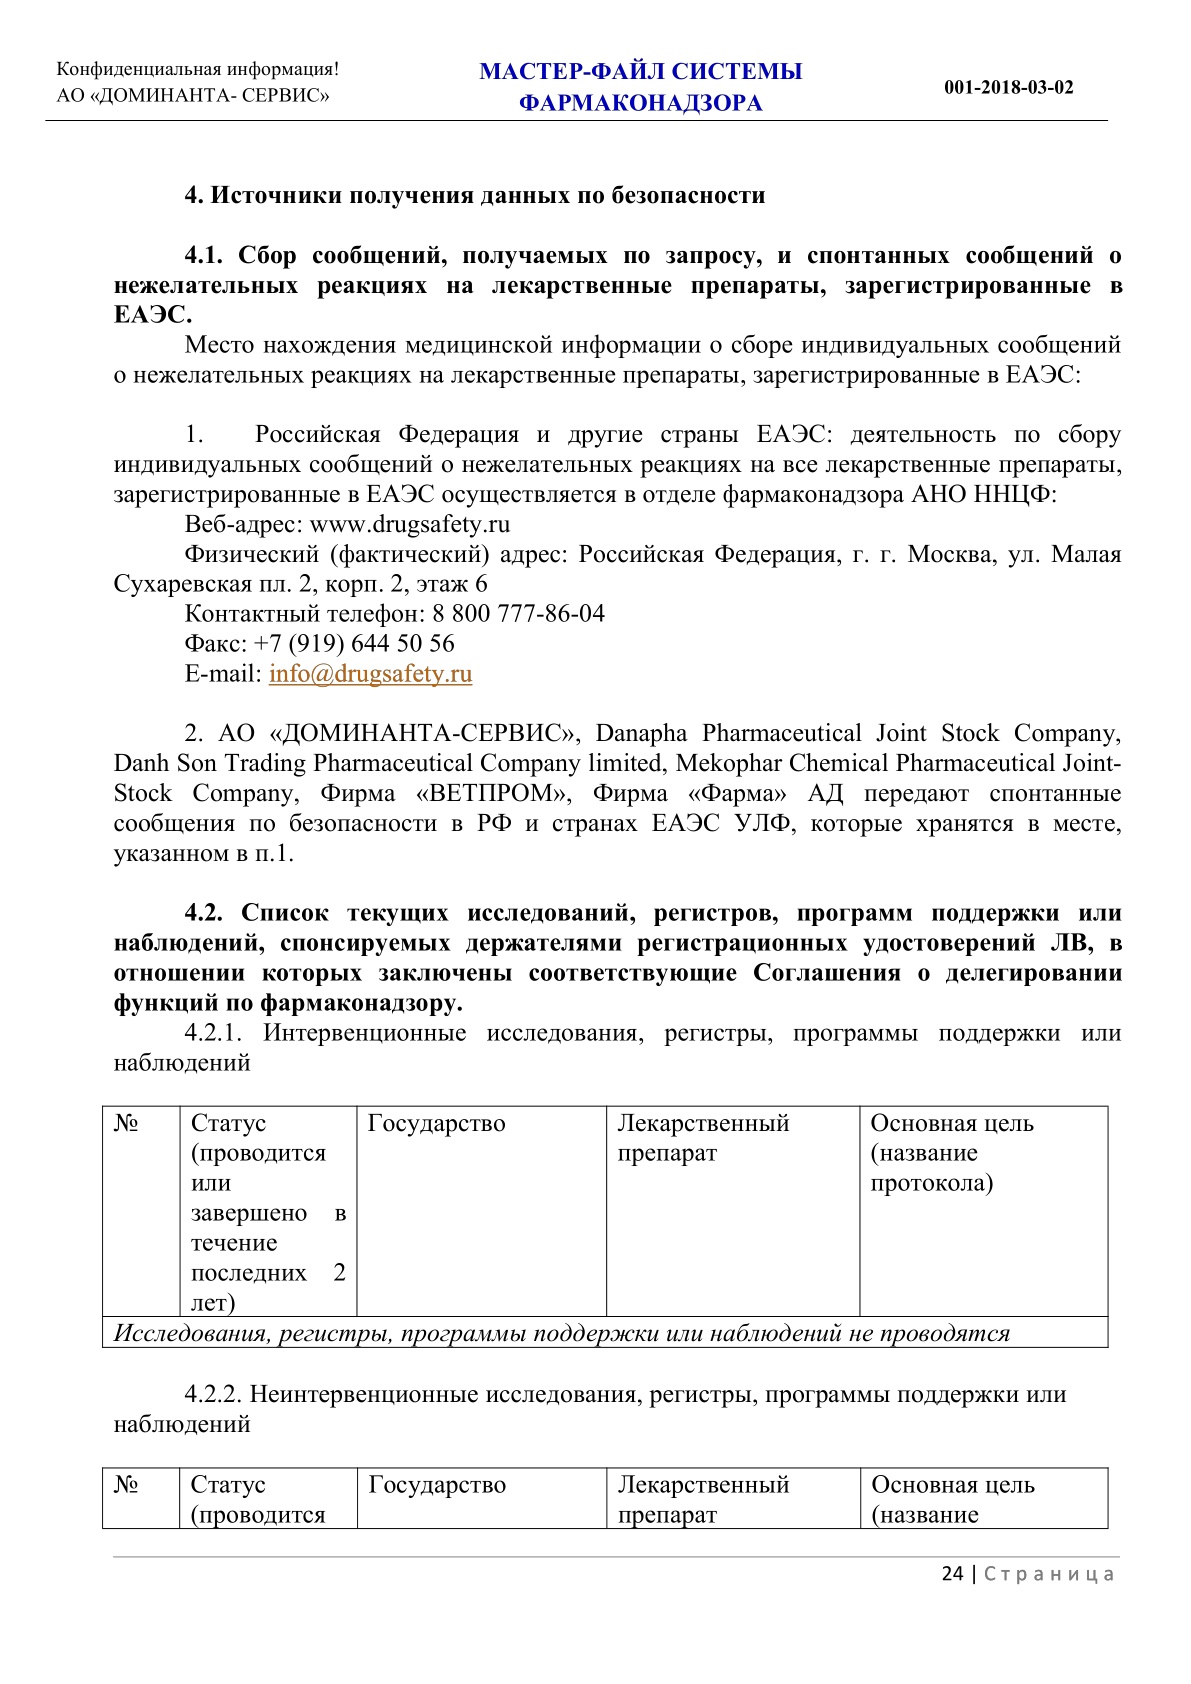full_lined: (102, 1468, 1109, 1529)
merged_cells: (101, 1105, 1109, 1348)
